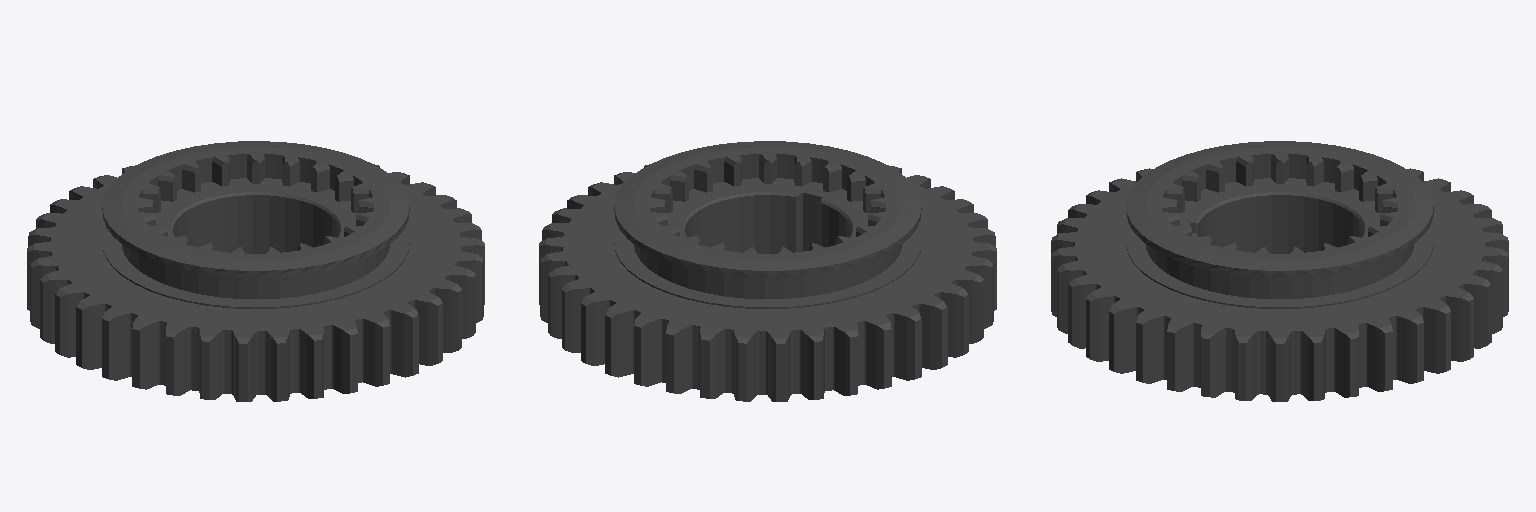
3 views of the same model, side by side, from view 1: azimuth 30°, elevation 25°; view 2: azimuth 150°, elevation 25°; view 3: azimuth 270°, elevation 25° (orthographic).
Visible parts, largest first — view 1: |Gear_1|Root|color; view 2: |Gear_1|Root|color; view 3: |Gear_1|Root|color.
Part boxes in pixels (bbox=[...]): |Gear_1|Root|color: bbox=[27, 141, 484, 401]; |Gear_1|Root|color: bbox=[539, 141, 996, 401]; |Gear_1|Root|color: bbox=[1051, 141, 1508, 401].
Bounding box in the file's own units: 0.1932 × 0.0485 × 0.1928.